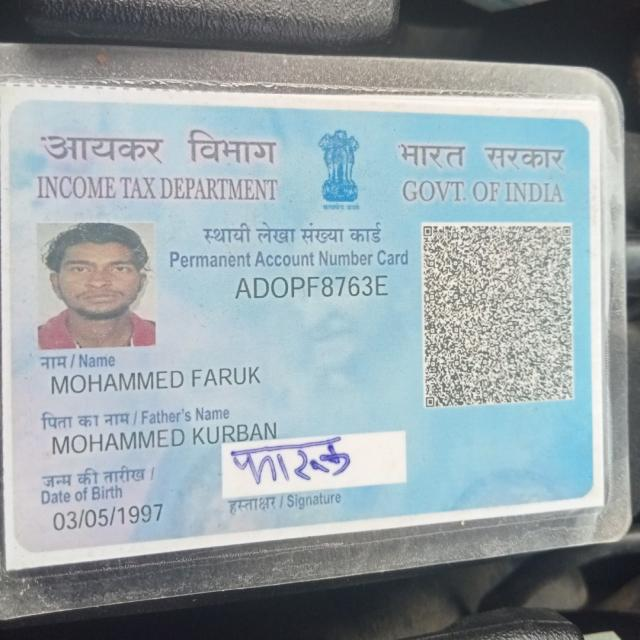pan_card: (8, 101, 593, 550)
